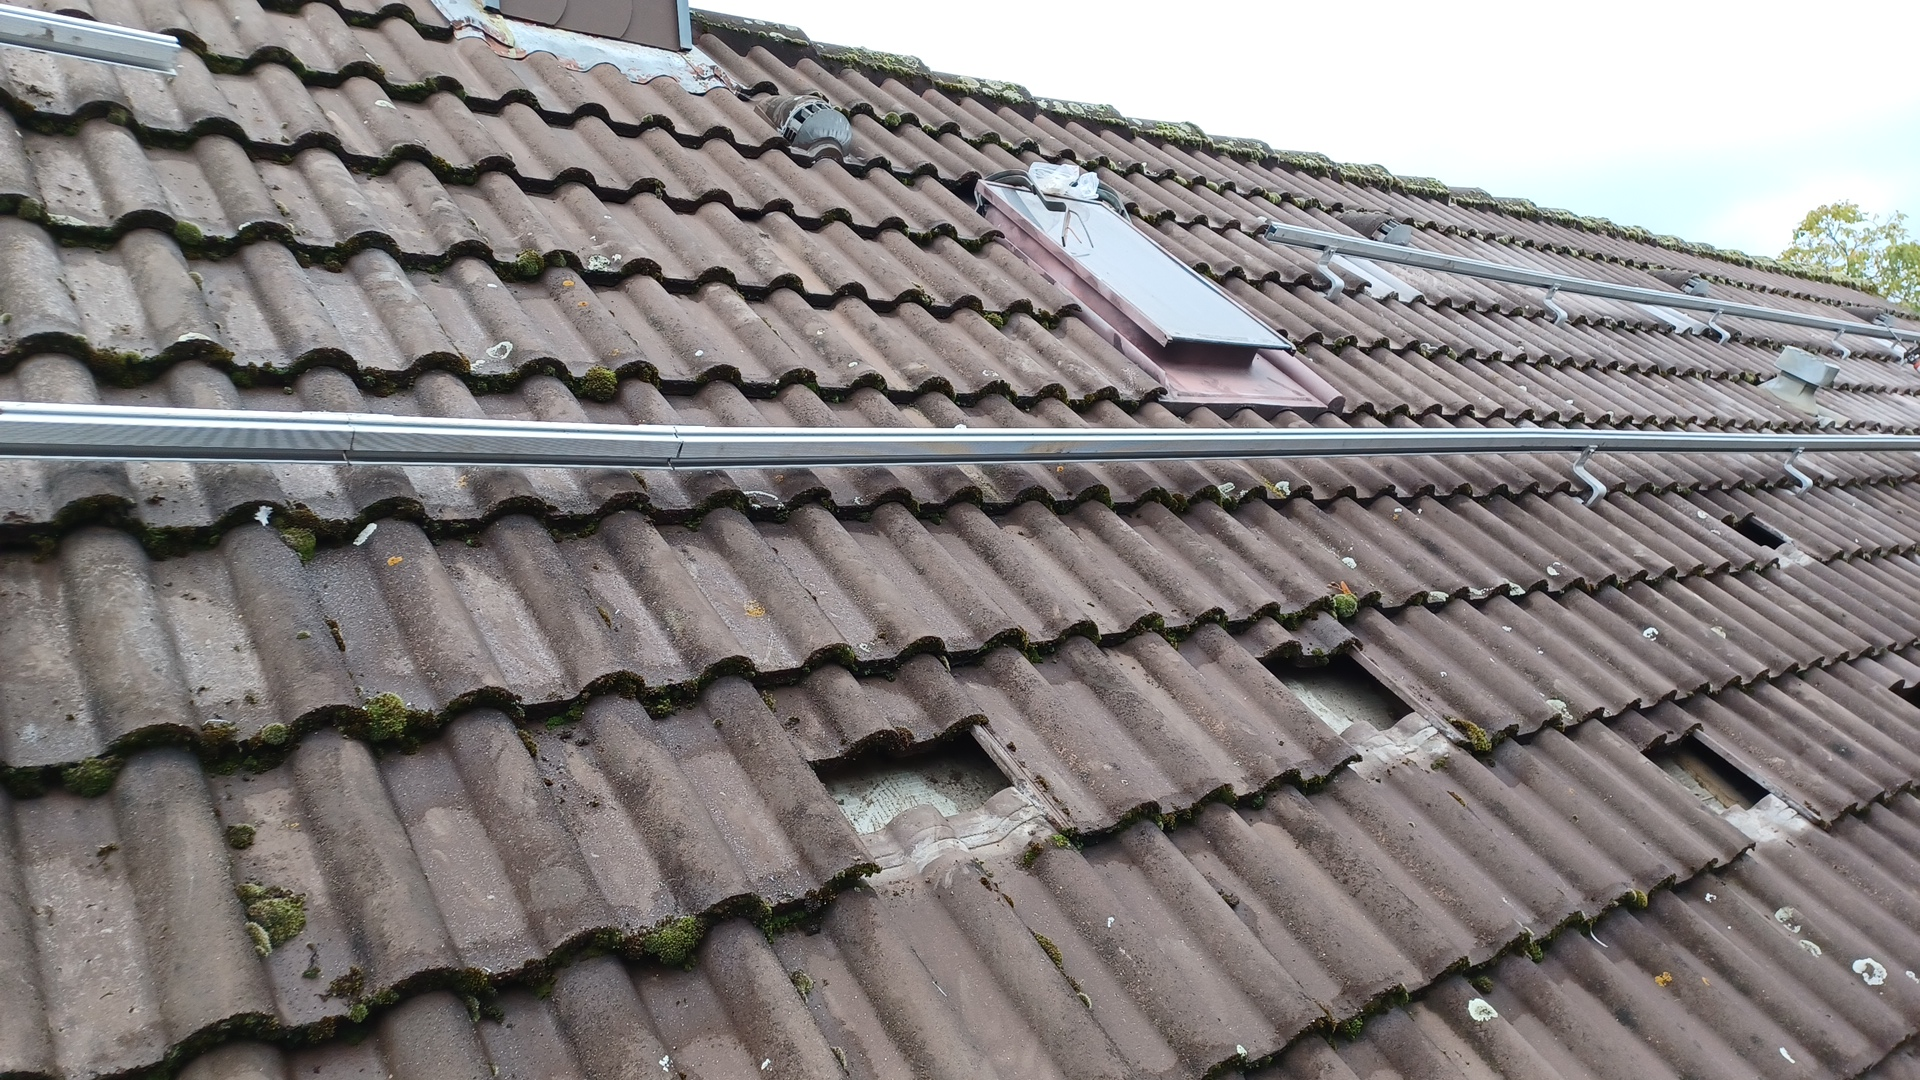hook: (1572, 444, 1607, 506), (1313, 245, 1345, 301), (1782, 447, 1813, 496), (1542, 284, 1567, 326), (1708, 309, 1731, 344), (1832, 327, 1851, 360), (1890, 338, 1908, 365)
